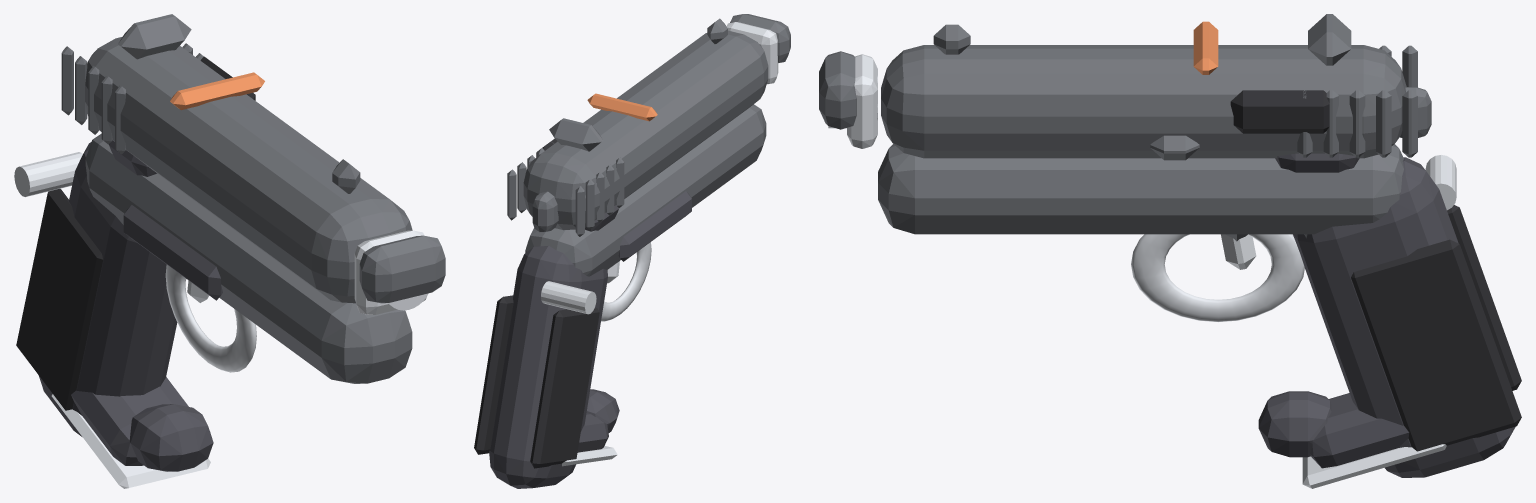
File: wep_pistol.glb
3 views of the same model, side by side, from view 1: azimuth 30°, elevation 25°; view 2: azimuth 150°, elevation 25°; view 3: azimuth 270°, elevation 25° (orthographic). The views are drawn at different scales.
Visible parts, largest first — view 1: wep_pistol_slide, wep_pistol_frame, wep_pistol_grip, wep_pistol_grip_panel_l, wep_pistol_slide_crown, wep_pistol_beavertail, wep_pistol_magwell, wep_pistol_trigger_guard, wep_pistol_frame_strut, wep_pistol_mag_lip, wep_pistol_sight_rear, wep_pistol_mag_release (+9 smaller); view 2: wep_pistol_slide, wep_pistol_grip, wep_pistol_frame, wep_pistol_grip_panel_l, wep_pistol_grip_panel_r, wep_pistol_frame_strut, wep_pistol_mag_release, wep_pistol_trigger_guard, wep_pistol_sight_rear, wep_pistol_bushing, wep_pistol_slide_crown, wep_pistol_stripe (+9 smaller); view 3: wep_pistol_slide, wep_pistol_frame, wep_pistol_grip_panel_r, wep_pistol_grip, wep_pistol_trigger_guard, wep_pistol_magwell, wep_pistol_ejection_port, wep_pistol_beavertail, wep_pistol_slide_crown, wep_pistol_grip_panel_l, wep_pistol_mag_lip, wep_pistol_bushing (+10 smaller).
Boxes of the visible parts, left/top/right/bottom form: wep_pistol_slide: left=85, top=36, right=412, bottom=303; wep_pistol_frame: left=85, top=133, right=412, bottom=383; wep_pistol_grip: left=38, top=142, right=186, bottom=436; wep_pistol_grip_panel_l: left=16, top=189, right=103, bottom=410; wep_pistol_slide_crown: left=359, top=235, right=445, bottom=303; wep_pistol_beavertail: left=129, top=404, right=213, bottom=471; wep_pistol_magwell: left=71, top=377, right=188, bottom=465; wep_pistol_trigger_guard: left=165, top=264, right=256, bottom=372; wep_pistol_frame_strut: left=123, top=204, right=222, bottom=300; wep_pistol_mag_lip: left=51, top=394, right=210, bottom=488; wep_pistol_sight_rear: left=118, top=14, right=191, bottom=59; wep_pistol_mag_release: left=14, top=152, right=82, bottom=196; wep_pistol_slide: left=523, top=30, right=768, bottom=230; wep_pistol_grip: left=489, top=246, right=607, bottom=488; wep_pistol_frame: left=525, top=104, right=766, bottom=276; wep_pistol_grip_panel_l: left=530, top=308, right=599, bottom=468; wep_pistol_grip_panel_r: left=474, top=295, right=513, bottom=454; wep_pistol_frame_strut: left=618, top=191, right=691, bottom=261; wep_pistol_mag_release: left=541, top=281, right=596, bottom=314; wep_pistol_trigger_guard: left=601, top=242, right=651, bottom=321; wep_pistol_sight_rear: left=549, top=118, right=603, bottom=151; wep_pistol_bushing: left=726, top=22, right=778, bottom=84; wep_pistol_slide_crown: left=730, top=14, right=790, bottom=62; wep_pistol_stripe: left=587, top=93, right=657, bottom=121; wep_pistol_slide: left=881, top=45, right=1406, bottom=158; wep_pistol_frame: left=878, top=144, right=1403, bottom=234; wep_pistol_grip_panel_r: left=1351, top=239, right=1521, bottom=451; wep_pistol_grip: left=1293, top=157, right=1515, bottom=477; wep_pistol_trigger_guard: left=1131, top=234, right=1304, bottom=322; wep_pistol_magwell: left=1310, top=393, right=1409, bottom=468; wep_pistol_ejection_port: left=1230, top=90, right=1329, bottom=133; wep_pistol_beavertail: left=1258, top=391, right=1331, bottom=457; wep_pistol_slide_crown: left=819, top=51, right=856, bottom=129; wep_pistol_grip_panel_l: left=1447, top=205, right=1521, bottom=390; wep_pistol_mag_lip: left=1302, top=444, right=1446, bottom=488; wep_pistol_bushing: left=847, top=54, right=877, bottom=148.
Size of the model in its own units: 0.0495 by 0.1608 by 0.2271.
